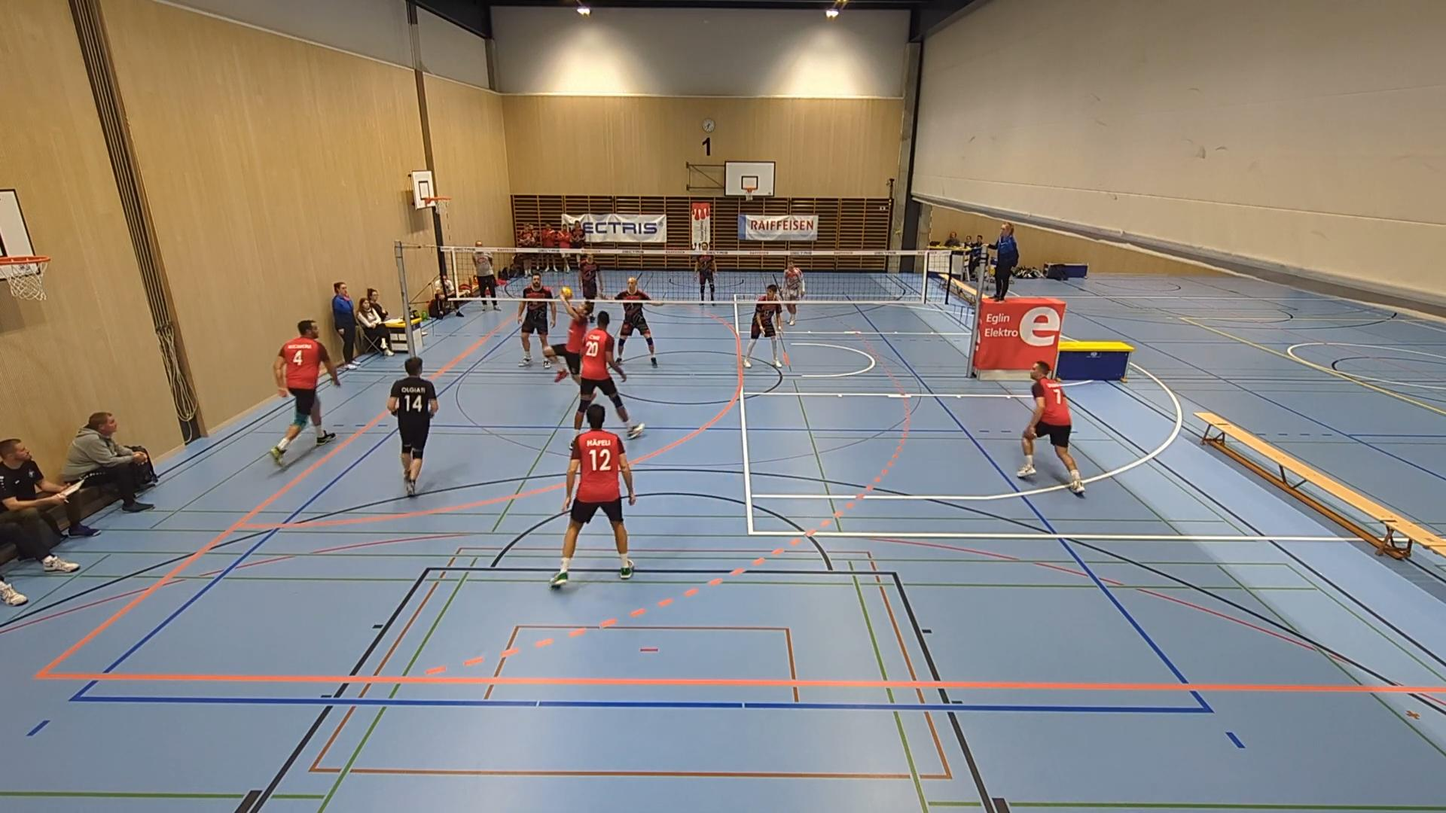alzata: (543, 300, 596, 383)
